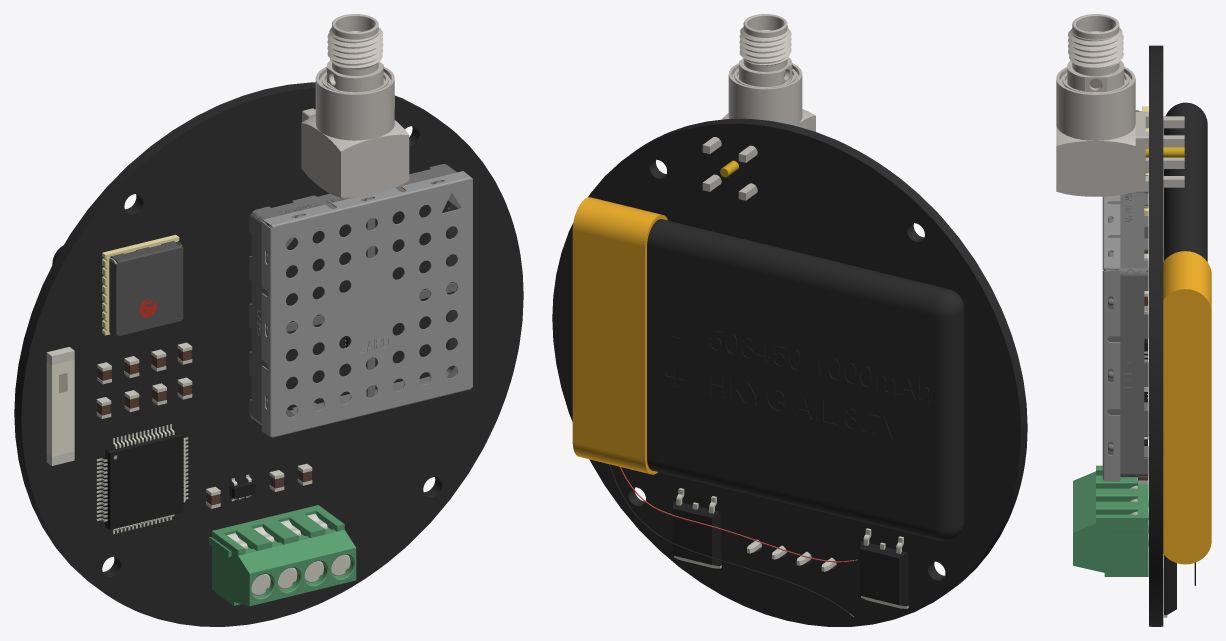
Rendered from WES0012-02_ASCII v3.fbx.
3 views of the same model, side by side, from view 1: azimuth 30°, elevation 25°; view 2: azimuth 150°, elevation 25°; view 3: azimuth 270°, elevation 25° (orthographic). The views are drawn at different scales.
Parts seen in each view (by area): view 1: Body2 (×2), Body1 (×6), Body38, Body9; view 2: Body1 (×5), Body2; view 3: Body1 (×6), Body2 (×3).
Boxes of the visible parts, box(x1,y1,x2,y2) form: Body2 (×2): box(21, 88, 523, 626); Body1 (×6): box(14, 14, 461, 606); Body38: box(109, 241, 183, 336); Body9: box(102, 234, 179, 335); Body1 (×5): box(552, 14, 1027, 626); Body2: box(647, 219, 964, 541); Body1 (×6): box(1056, 14, 1211, 626); Body2 (×3): box(1102, 102, 1207, 481).
Bounding box in the file's own units: 66 × 75.61 × 17.66.
